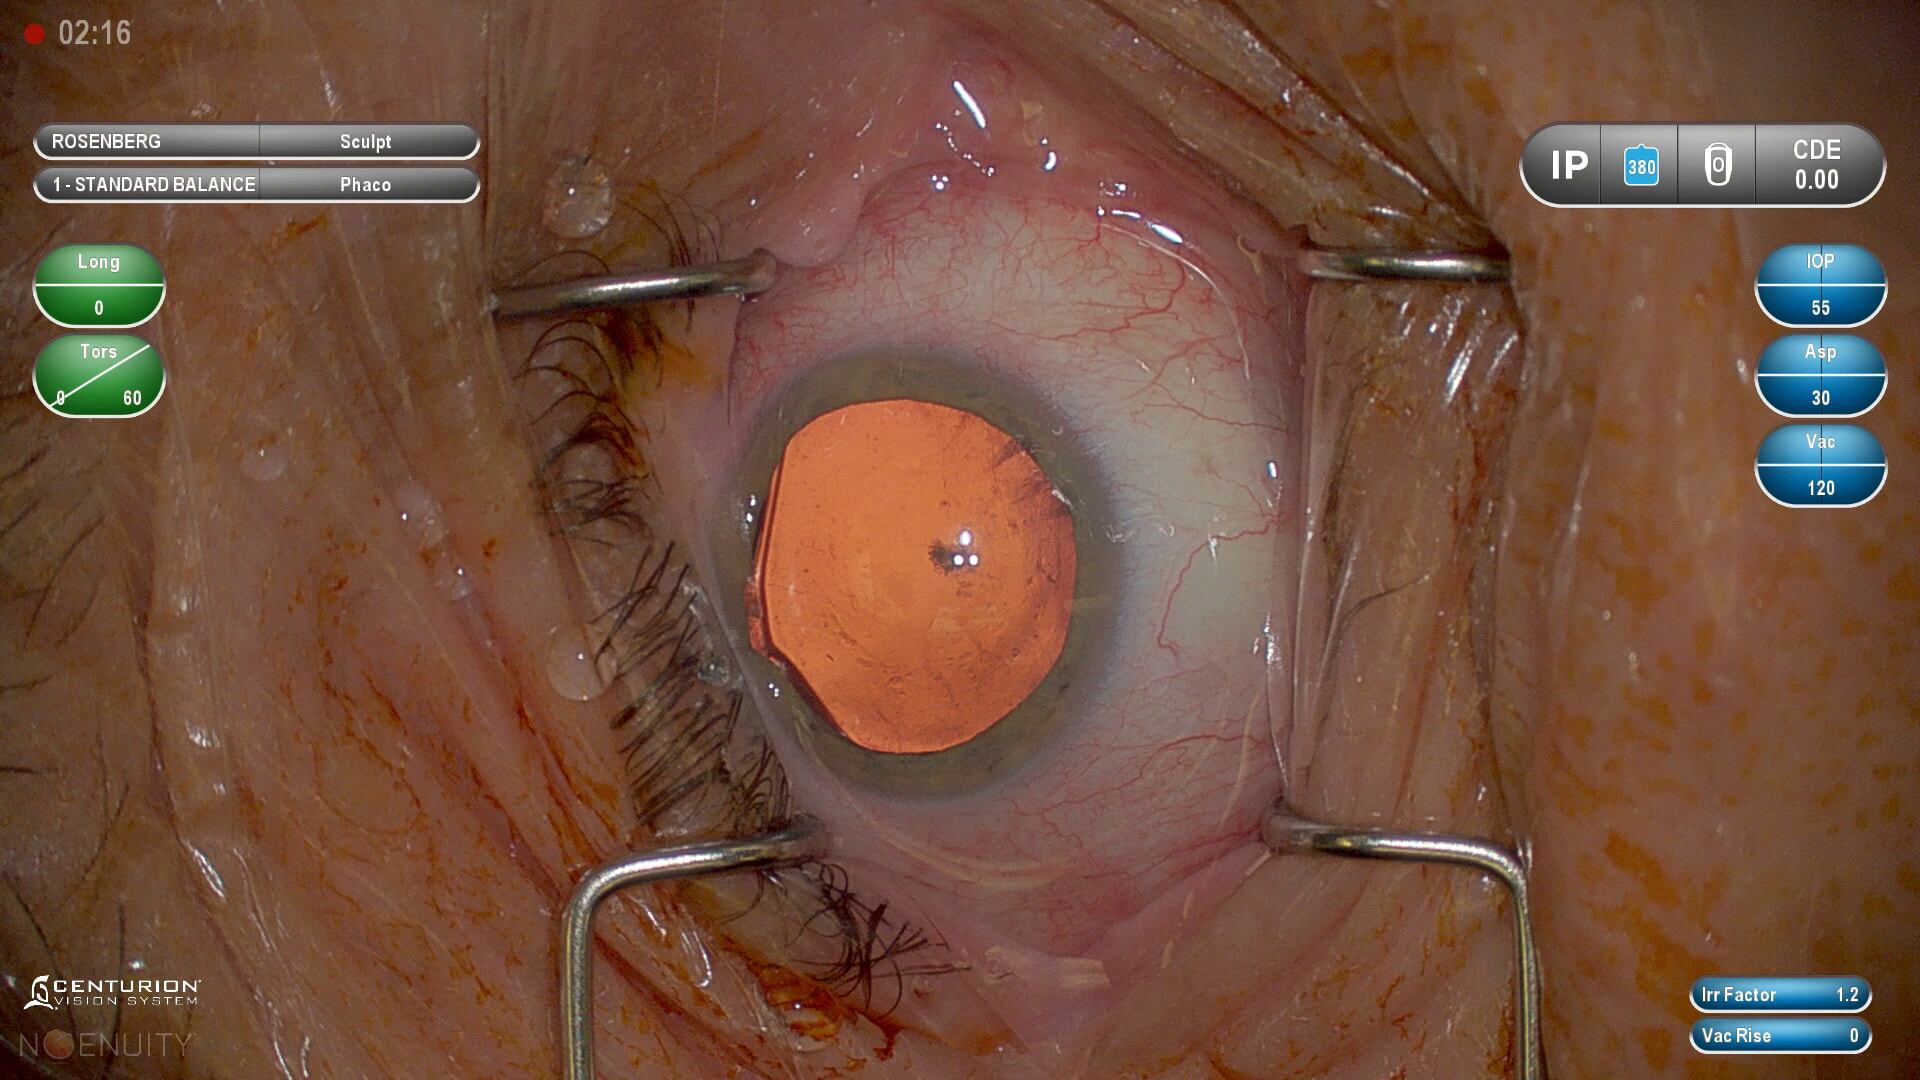iris: (708, 348, 1116, 799)
pupil: (744, 397, 1086, 753)
